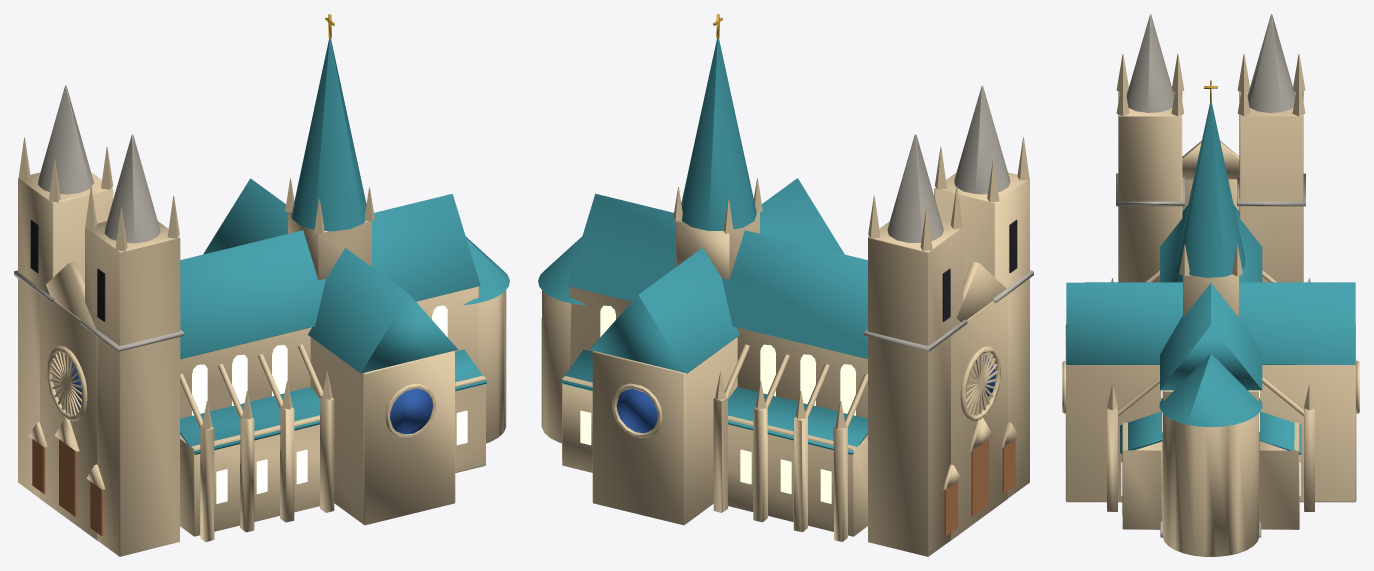
File: cathedral.glb
3 renders of one model, left to right at view 1: azimuth 30°, elevation 25°; view 2: azimuth 150°, elevation 25°; view 3: azimuth 270°, elevation 25°, orthographic. The views are drawn at different scales.
Visible parts, largest first — view 1: cathedral; view 2: cathedral; view 3: cathedral.
Boxes of the visible parts, <box> form: cathedral: <box>14,14,509,556</box>; cathedral: <box>538,14,1033,556</box>; cathedral: <box>1062,14,1359,556</box>.
Bounding box in the file's own units: 40.93 × 39.53 × 26.51.
Materials: 1 (1 with a texture image).
